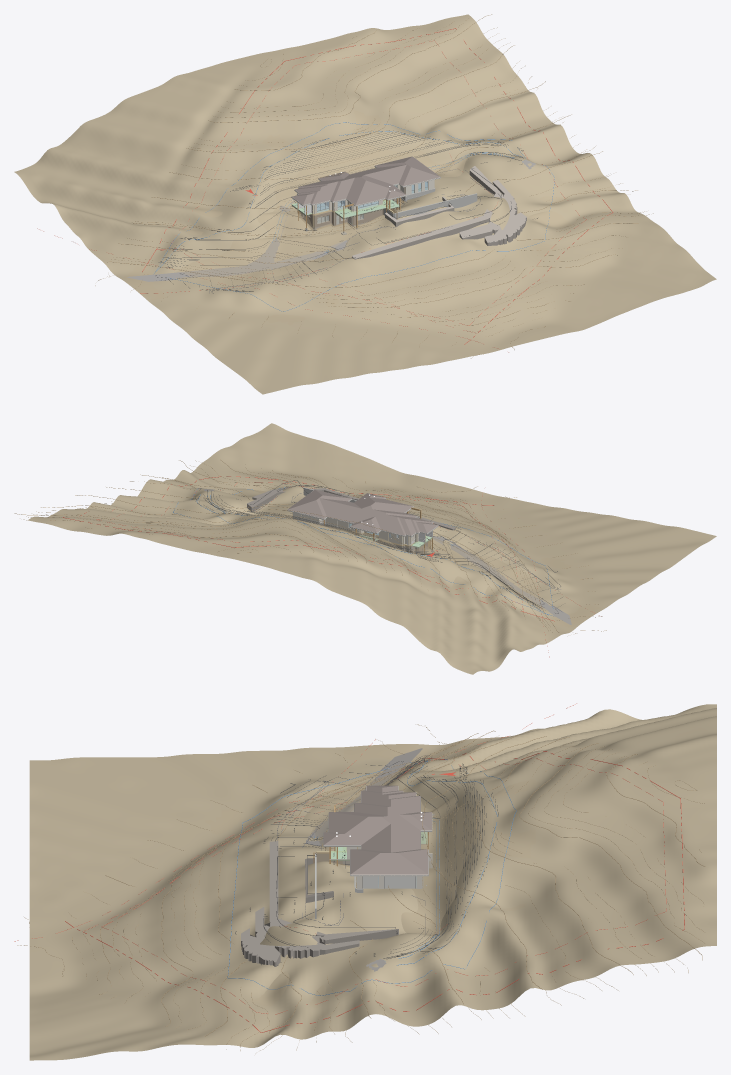
The model's file is home.glb.
3 renders of one model, top to bottom at view 1: azimuth 30°, elevation 25°; view 2: azimuth 150°, elevation 25°; view 3: azimuth 270°, elevation 25°, orthographic. The views are drawn at different scales.
Parts seen in each view (by area): view 1: Finish Grade Surface (grading plan), Existing Grade Surface (topo), Concrete Tile Roof (Class A), Boulder Retaining Walls (H<=8ft, grading plan), Existing Contours (1ft) major 5ft, Riprap D50=4in t=8in, Proposed Contours (1ft) major 5ft, Existing Contours (1ft) minor, Proposed Contours (1ft) minor, Excavation (basement + 2ft over-dig), Concrete 010 W-10B Driveway Retaining Wall; view 2: Finish Grade Surface (grading plan), Existing Grade Surface (topo), Concrete Tile Roof (Class A), Existing Contours (1ft) major 5ft, Riprap D50=4in t=8in, Existing Contours (1ft) minor, Proposed Contours (1ft) major 5ft, Proposed Contours (1ft) minor, Boulder Retaining Walls (H<=8ft, grading plan), Property Line; view 3: Finish Grade Surface (grading plan), Existing Grade Surface (topo), Concrete Tile Roof (Class A), Boulder Retaining Walls (H<=8ft, grading plan), Existing Contours (1ft) major 5ft, Existing Contours (1ft) minor, Proposed Contours (1ft) minor, Proposed Contours (1ft) major 5ft, Riprap D50=4in t=8in, Property Line, Disturbed Area Limit, Building Setbacks.
Boxes of the visible parts, left/top/right/bottom form: Finish Grade Surface (grading plan): left=14, top=14, right=716, bottom=394; Existing Grade Surface (topo): left=124, top=110, right=571, bottom=324; Concrete Tile Roof (Class A): left=292, top=156, right=440, bottom=205; Boulder Retaining Walls (H<=8ft, grading plan): left=352, top=166, right=526, bottom=259; Existing Contours (1ft) major 5ft: left=107, top=14, right=638, bottom=342; Riprap D50=4in t=8in: left=127, top=159, right=536, bottom=281; Proposed Contours (1ft) major 5ft: left=163, top=133, right=523, bottom=291; Existing Contours (1ft) minor: left=95, top=20, right=653, bottom=358; Proposed Contours (1ft) minor: left=155, top=130, right=519, bottom=291; Excavation (basement + 2ft over-dig): left=297, top=198, right=403, bottom=231; Concrete 010 W-10B Driveway Retaining Wall: left=394, top=193, right=477, bottom=219; Finish Grade Surface (grading plan): left=28, top=423, right=716, bottom=674; Existing Grade Surface (topo): left=251, top=485, right=601, bottom=626; Concrete Tile Roof (Class A): left=287, top=489, right=438, bottom=535; Existing Contours (1ft) major 5ft: left=14, top=459, right=592, bottom=632; Riprap D50=4in t=8in: left=203, top=489, right=571, bottom=624; Existing Contours (1ft) minor: left=23, top=460, right=606, bottom=633; Proposed Contours (1ft) major 5ft: left=195, top=480, right=557, bottom=608; Proposed Contours (1ft) minor: left=195, top=485, right=562, bottom=613; Boulder Retaining Walls (H<=8ft, grading plan): left=247, top=487, right=455, bottom=530; Property Line: left=63, top=476, right=554, bottom=621; Finish Grade Surface (grading plan): left=29, top=704, right=716, bottom=1060; Existing Grade Surface (topo): left=200, top=744, right=540, bottom=1008; Concrete Tile Roof (Class A): left=323, top=785, right=431, bottom=874; Boulder Retaining Walls (H<=8ft, grading plan): left=241, top=841, right=398, bottom=966; Existing Contours (1ft) major 5ft: left=99, top=730, right=705, bottom=1036; Existing Contours (1ft) minor: left=17, top=724, right=704, bottom=1050; Proposed Contours (1ft) minor: left=263, top=754, right=498, bottom=965; Proposed Contours (1ft) major 5ft: left=263, top=755, right=492, bottom=958; Riprap D50=4in t=8in: left=306, top=748, right=434, bottom=971; Property Line: left=65, top=751, right=684, bottom=1032; Disturbed Area Limit: left=227, top=759, right=516, bottom=995; Building Setbacks: left=101, top=758, right=666, bottom=1014.
Bounding box in the file's own units: 137 × 29.6 × 121.
